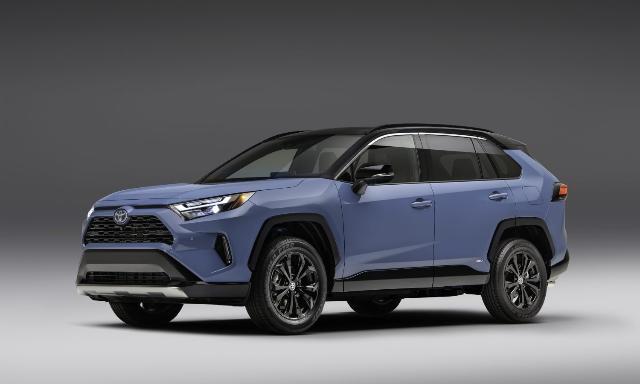toyota: (75, 122, 571, 334)
